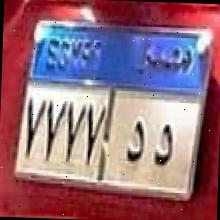7: (44, 94, 67, 166), (81, 105, 106, 166), (65, 98, 86, 162), (24, 98, 46, 156)
daal: (151, 114, 178, 168), (123, 116, 149, 166)
